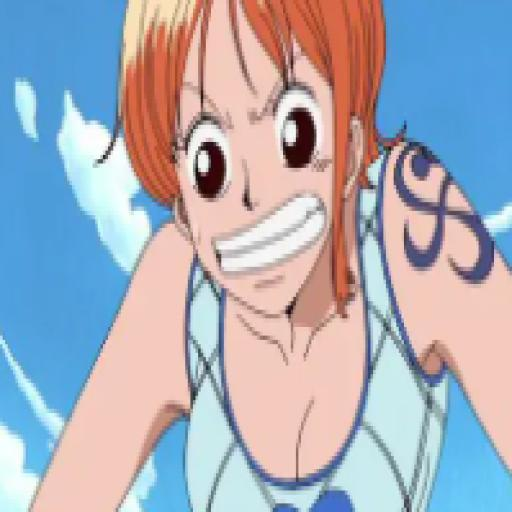Nami: (20, 0, 512, 507)
